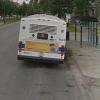Bus: (15, 10, 69, 65)
